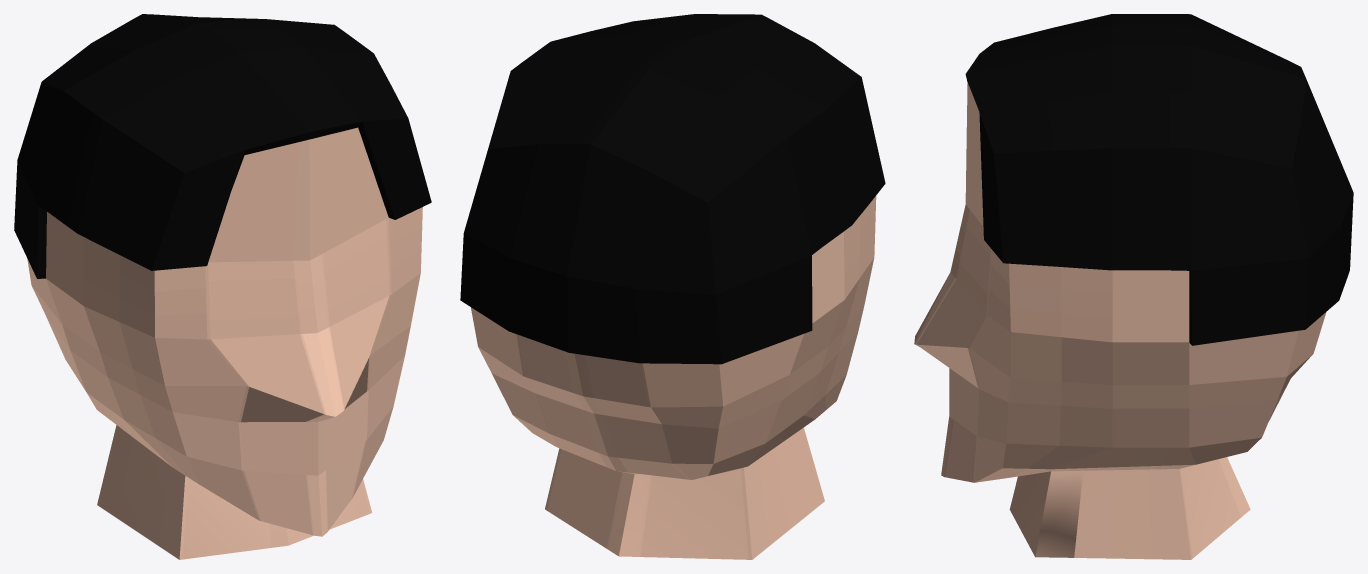
The model's file is Head.glb.
The picture shows the model from 3 angles, left to right: view 1: azimuth 30°, elevation 25°; view 2: azimuth 150°, elevation 25°; view 3: azimuth 270°, elevation 25°; orthographic projection.
Visible parts, largest first — view 1: character.001, hair.001; view 2: hair.001, character.001; view 3: hair.001, character.001.
Boxes of the visible parts, x1,y1,x2,y2 form: character.001: [27, 127, 422, 559]; hair.001: [14, 14, 431, 278]; hair.001: [460, 14, 885, 364]; character.001: [471, 196, 876, 559]; hair.001: [965, 14, 1353, 345]; character.001: [914, 83, 1326, 559].
Size of the model in its own units: 0.6982 by 0.9451 by 0.8111.
